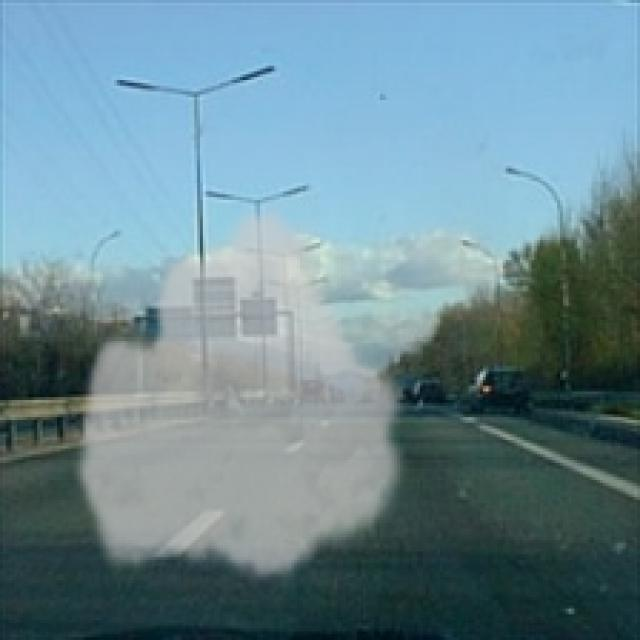smoke: (72, 197, 414, 583)
